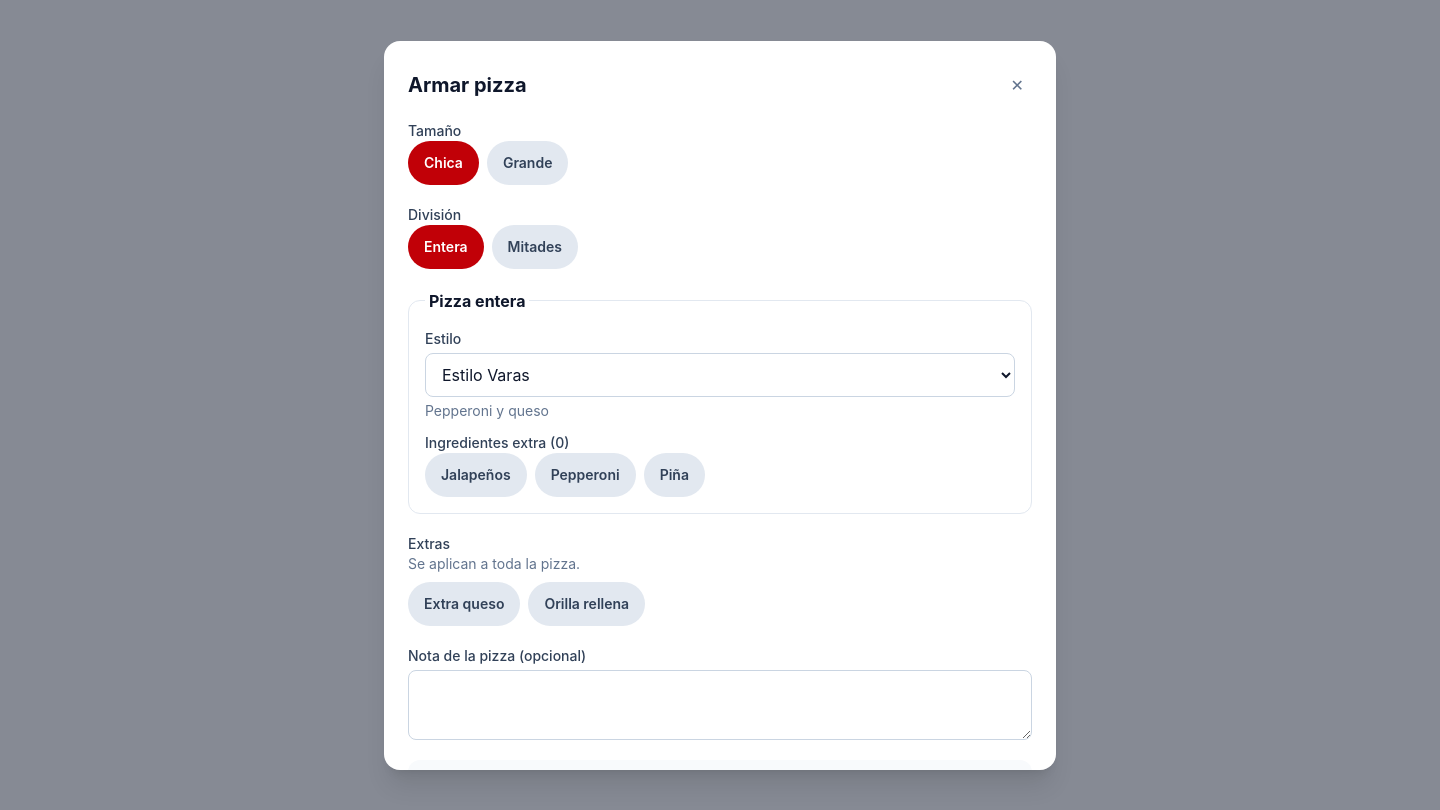
Scenario: PizzaBuilderModal › shows only the divisions allowed by the size and resets an invalid one when resizing
Expected: the button "Cuartos" is not shown
Click the button "Grande".
click(528, 162)  # box [487,140,568,184]
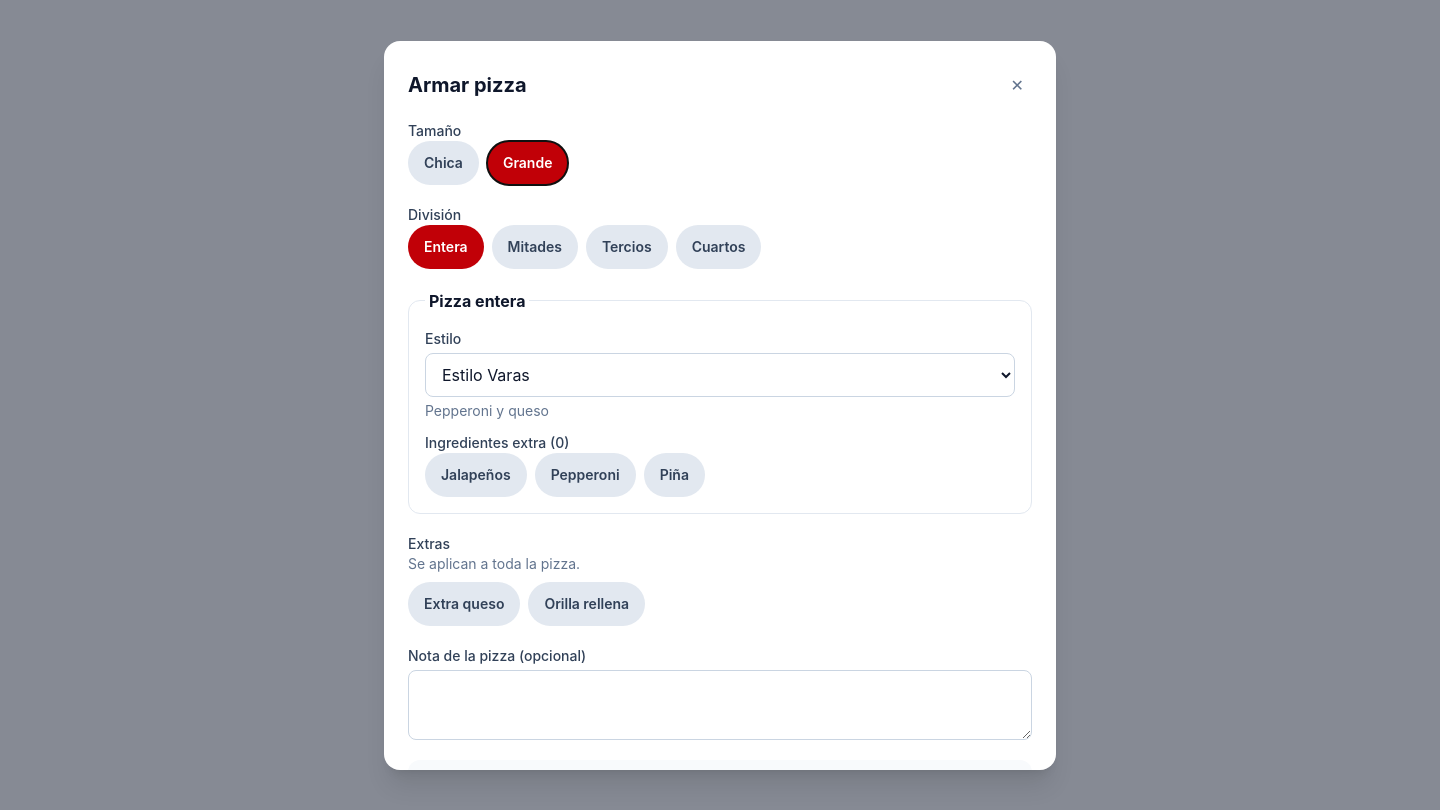
Click the button "Cuartos".
click(719, 246)  # box [676,224,762,268]
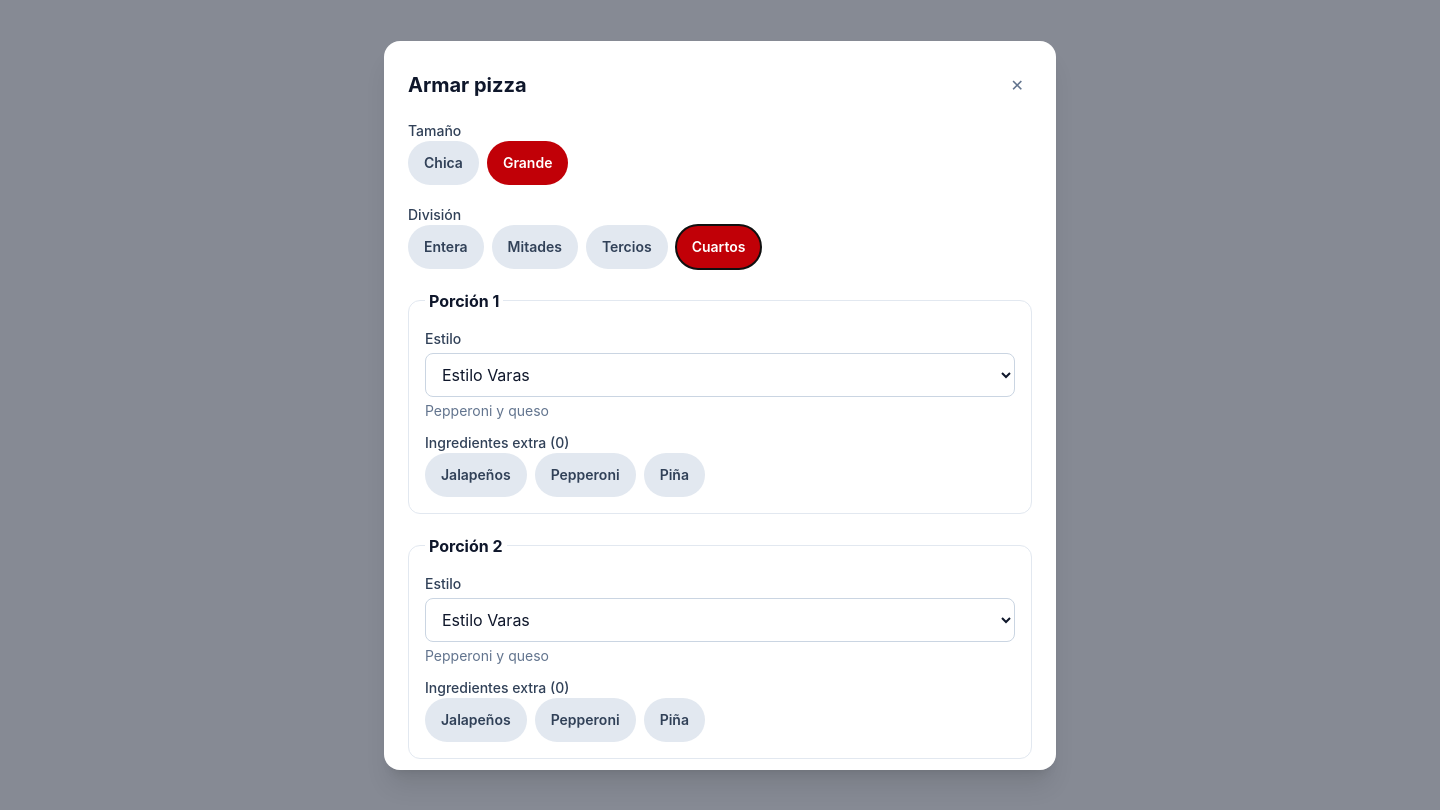
Expected: the number of elements "Porción" is 4
Click the button "Chica".
click(443, 162)  # box [408,140,479,184]
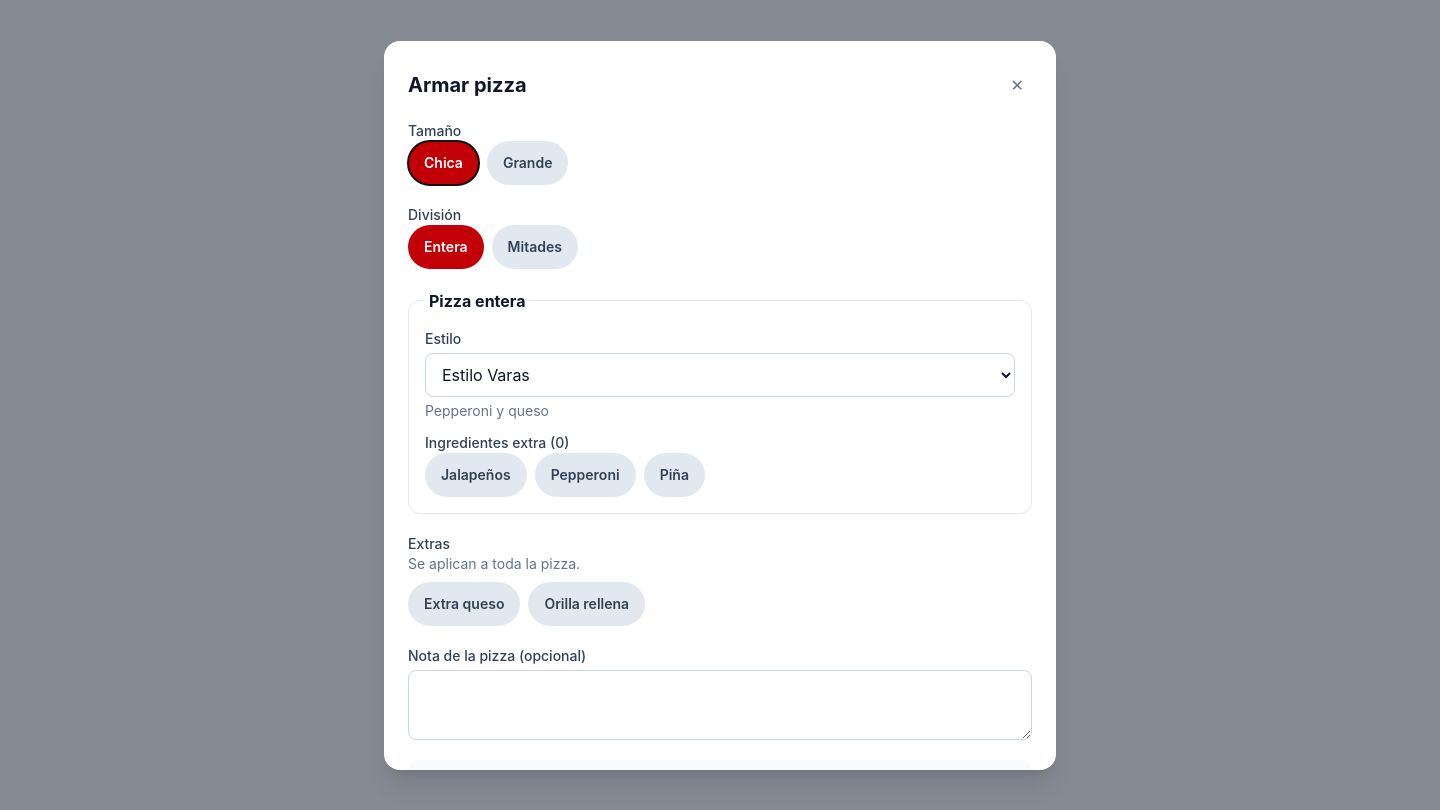
Expected: the element "Pizza entera" is shown, [408,288,1032,514]
